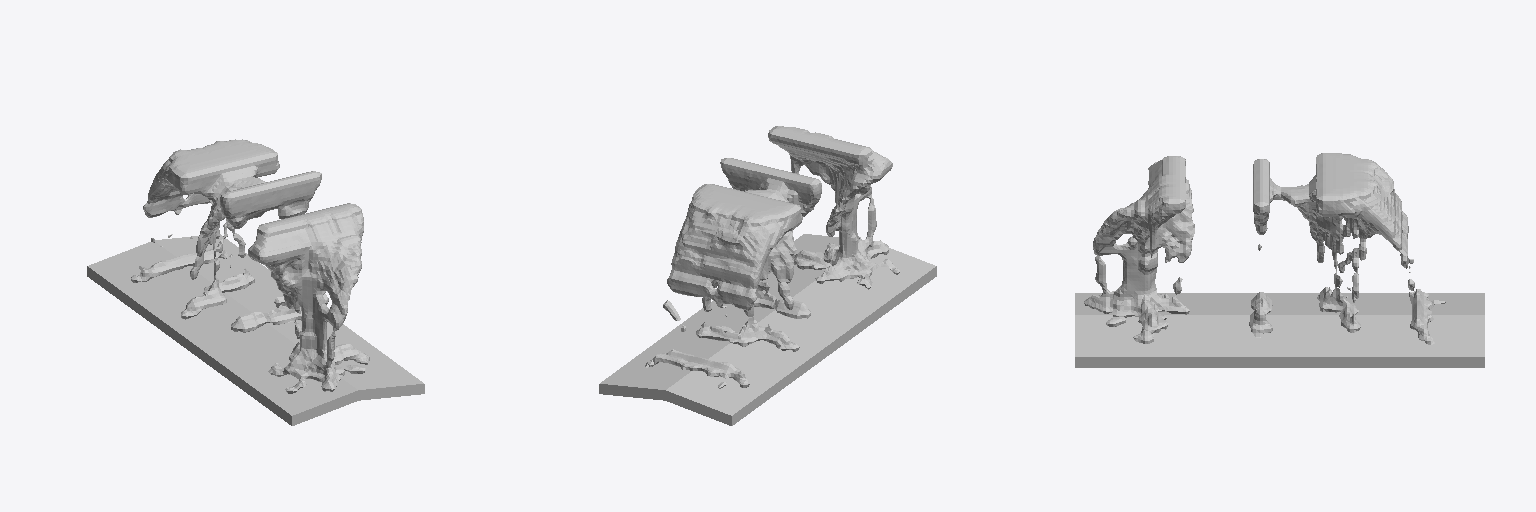
The model's file is Watersim_000022.obj.
3 renders of one model, left to right at view 1: azimuth 30°, elevation 25°; view 2: azimuth 150°, elevation 25°; view 3: azimuth 270°, elevation 25°, orthographic.
Parts seen in each view (by area): view 1: Domain_Cube.006, Straße_Cube.007; view 2: Domain_Cube.006, Straße_Cube.007; view 3: Straße_Cube.007, Domain_Cube.006.
Part boxes in pixels (x1,y1,x2,y2): Domain_Cube.006: (131, 139, 369, 393); Straße_Cube.007: (87, 234, 424, 425); Domain_Cube.006: (645, 126, 899, 388); Straße_Cube.007: (599, 234, 936, 425); Straße_Cube.007: (1075, 293, 1484, 367); Domain_Cube.006: (1084, 153, 1445, 344).
Size of the model in its own units: 2.26 by 2.59 by 6.06.